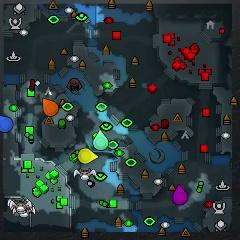p1: (0, 115, 14, 133)
p2: (93, 130, 108, 150)
p3: (172, 184, 188, 205)
p4: (79, 148, 98, 163)
p5: (42, 98, 58, 117)
